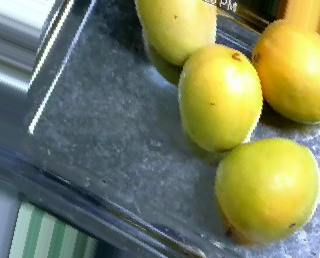Mango: (212, 138, 320, 241), (174, 46, 260, 150), (250, 22, 320, 125), (133, 1, 218, 60)
